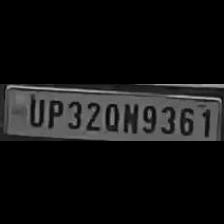1: (197, 105, 213, 137)
2: (82, 97, 102, 130)
3: (64, 96, 82, 128), (158, 101, 174, 133)
6: (176, 102, 194, 134)
9: (138, 100, 158, 134)
N: (121, 99, 137, 133)
P: (43, 96, 63, 128)
Q: (100, 98, 119, 132)
U: (24, 94, 44, 125)
